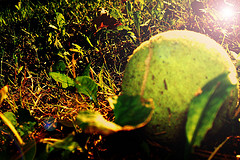tennis ball: (121, 29, 238, 140)
